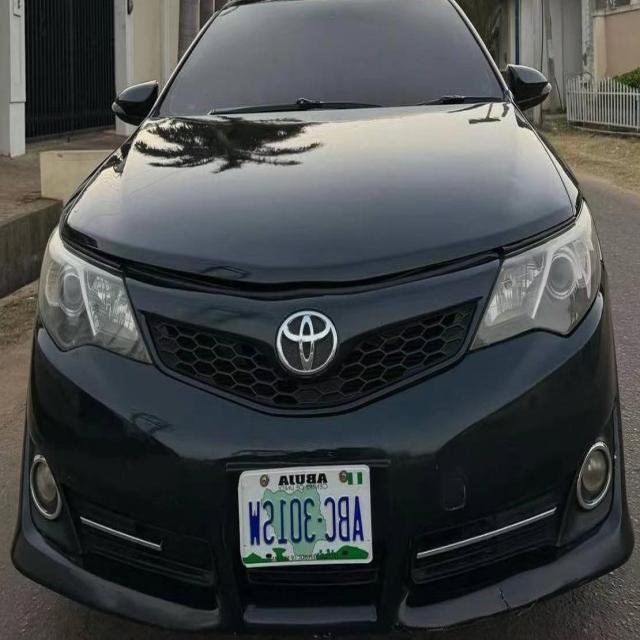Nigerian License Plate - vdataset benjamin-daria: (236, 457, 376, 572)
